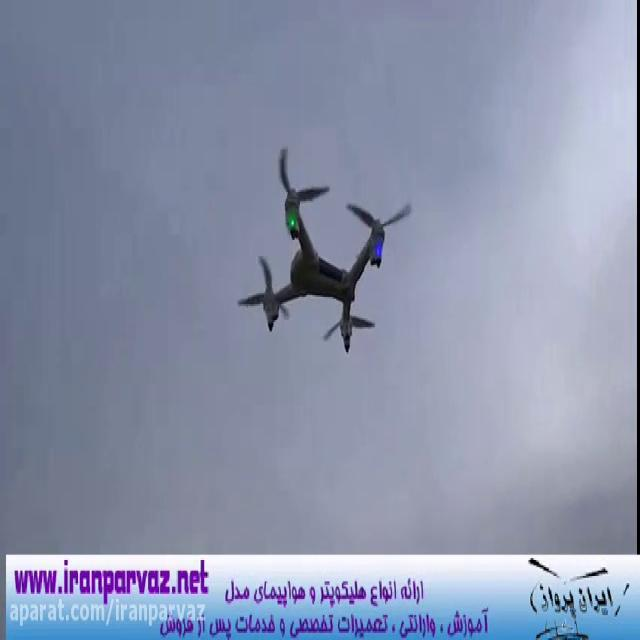drone: (233, 144, 415, 356)
